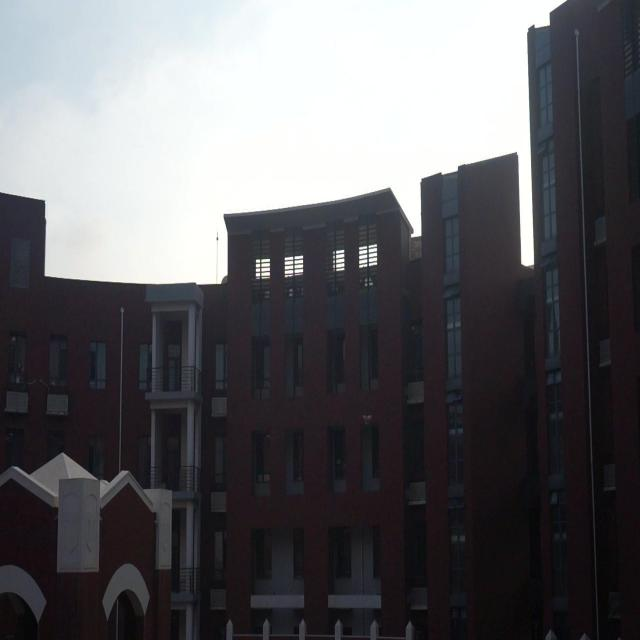UAV: (362, 415, 372, 424)
